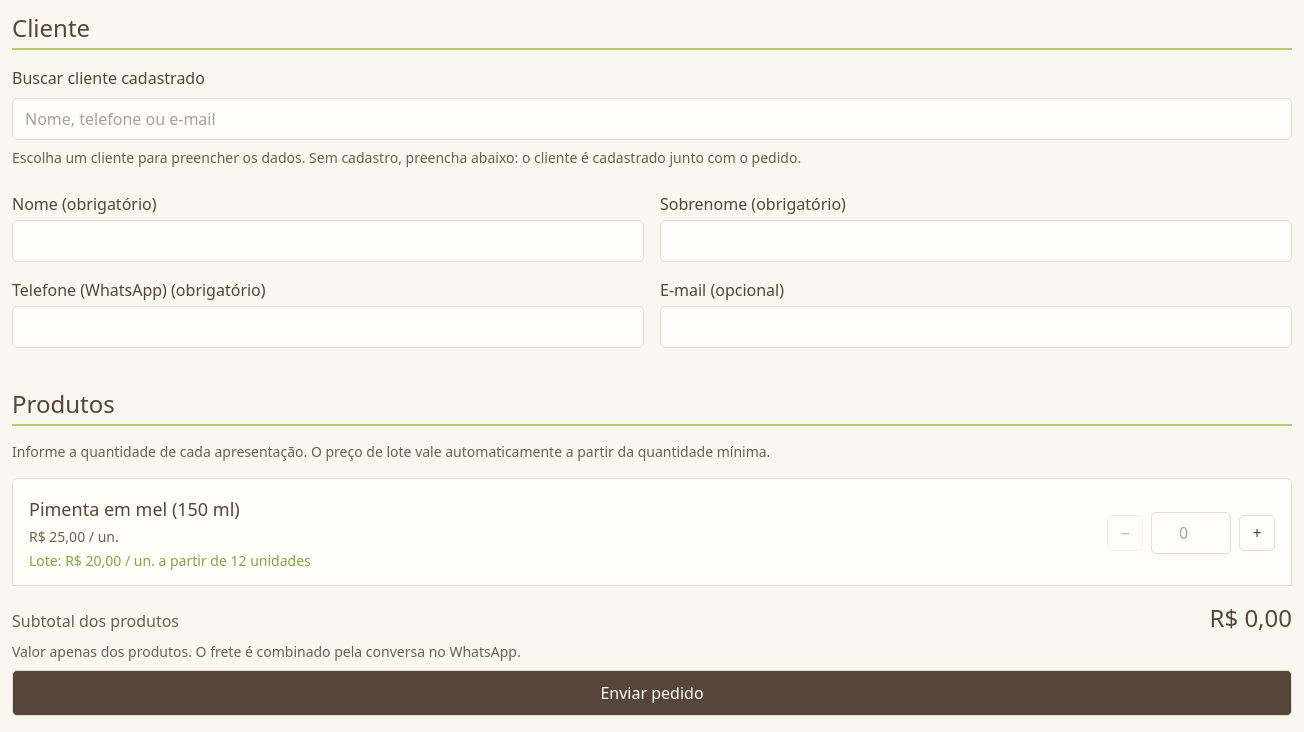
Test: <PedidoPimentaForm modo="funcionario"> › não pré-preenche com a conta logada; busca e escolhe o cliente
This screenshot has width=1304, height=732.
In the search field labelled "Buscar cliente cadastrado": [652, 119] box [12,98,1292,140], type "bia"
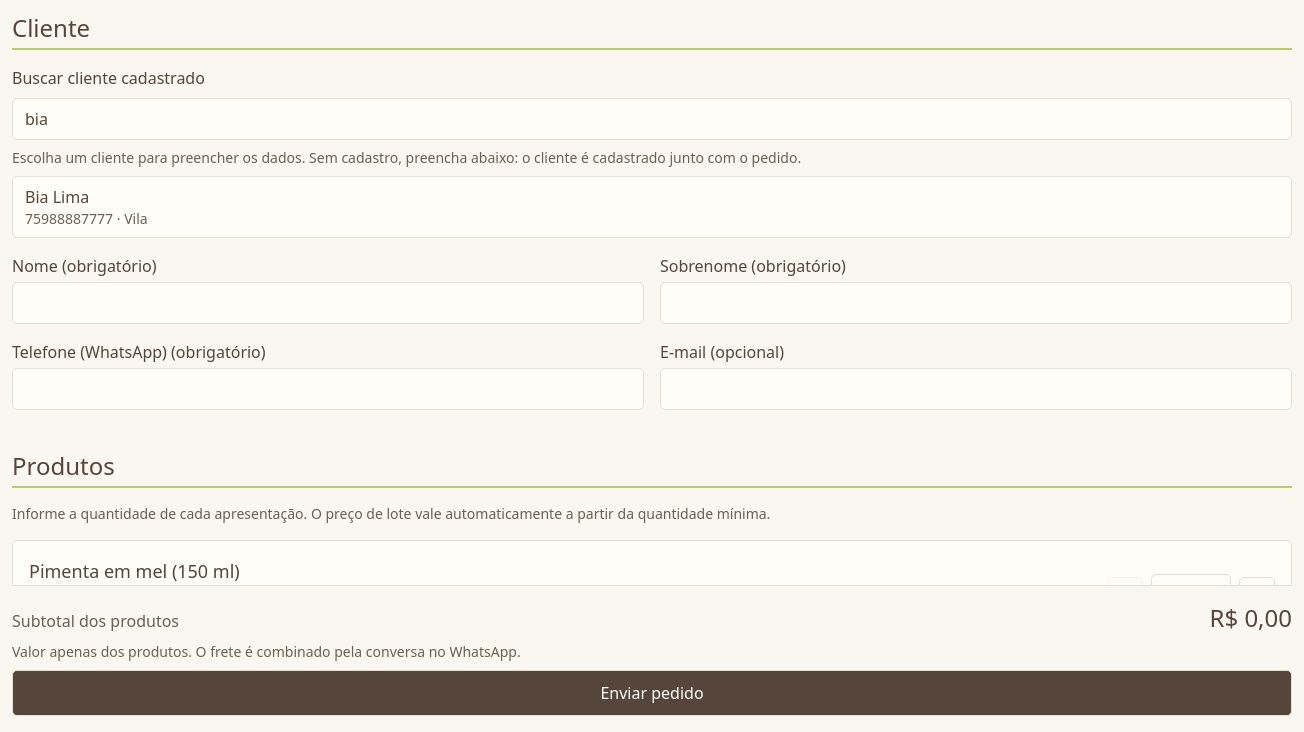
Click the button "Bia Lima 75988887777 · Vila": [71, 197] box [12,176,1292,238]
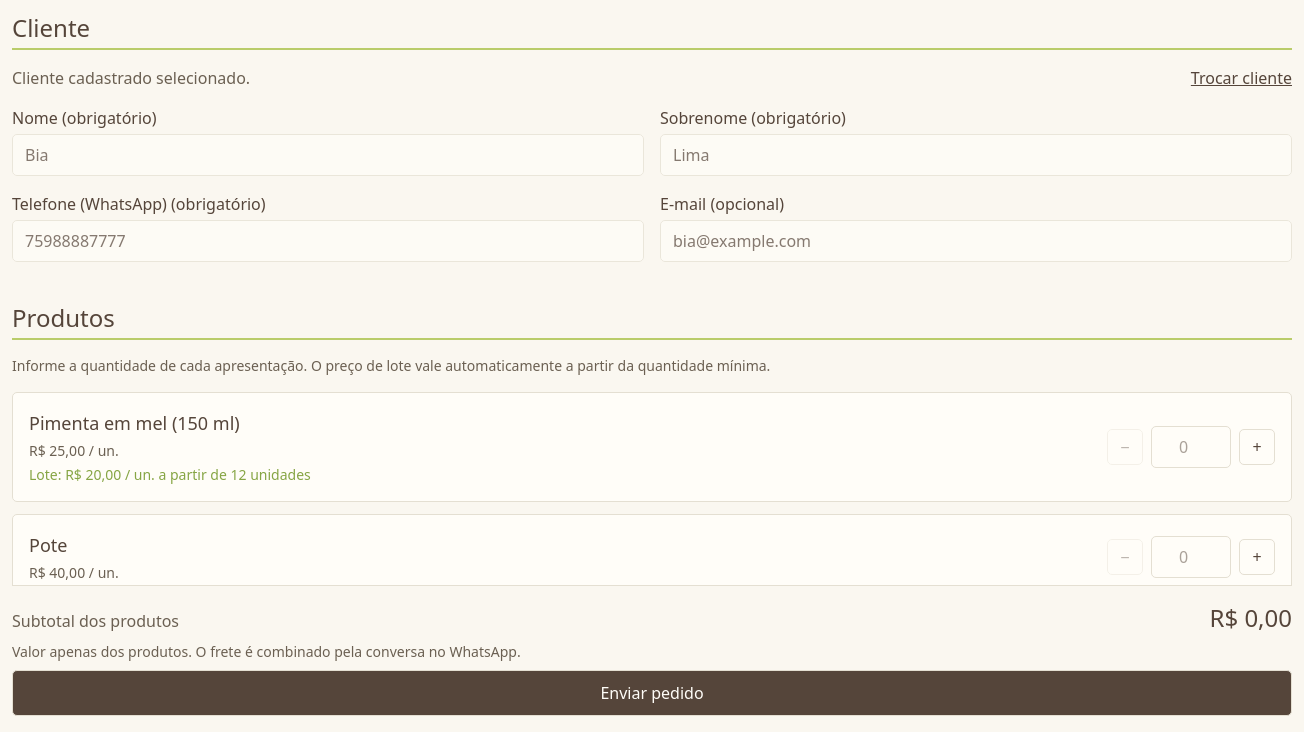
Expected: the field labelled "Nome (obrigatório)" holds "Bia", [12,134,644,176]
Click the button named "Aumentar quantidade de Pote": [1257, 557] box [1239,539,1275,575]
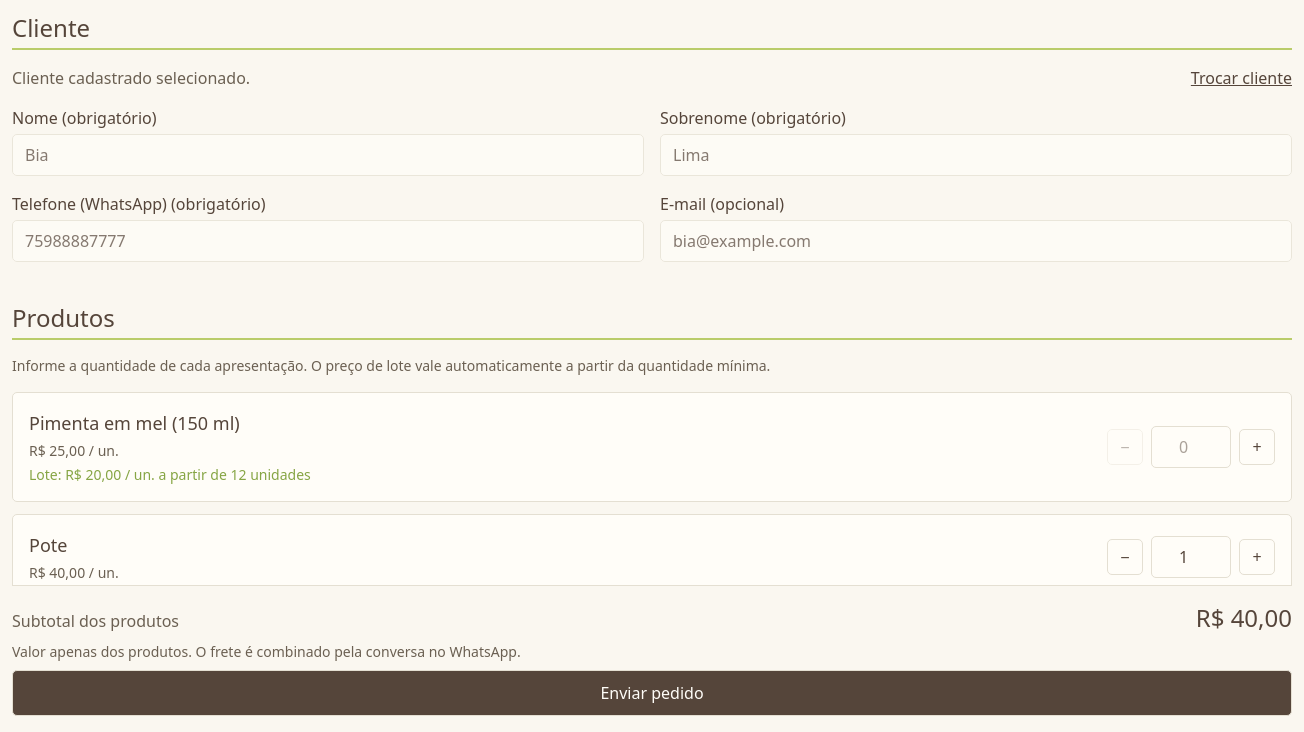
Click the button "Enviar pedido": [652, 693] box [12,670,1292,716]
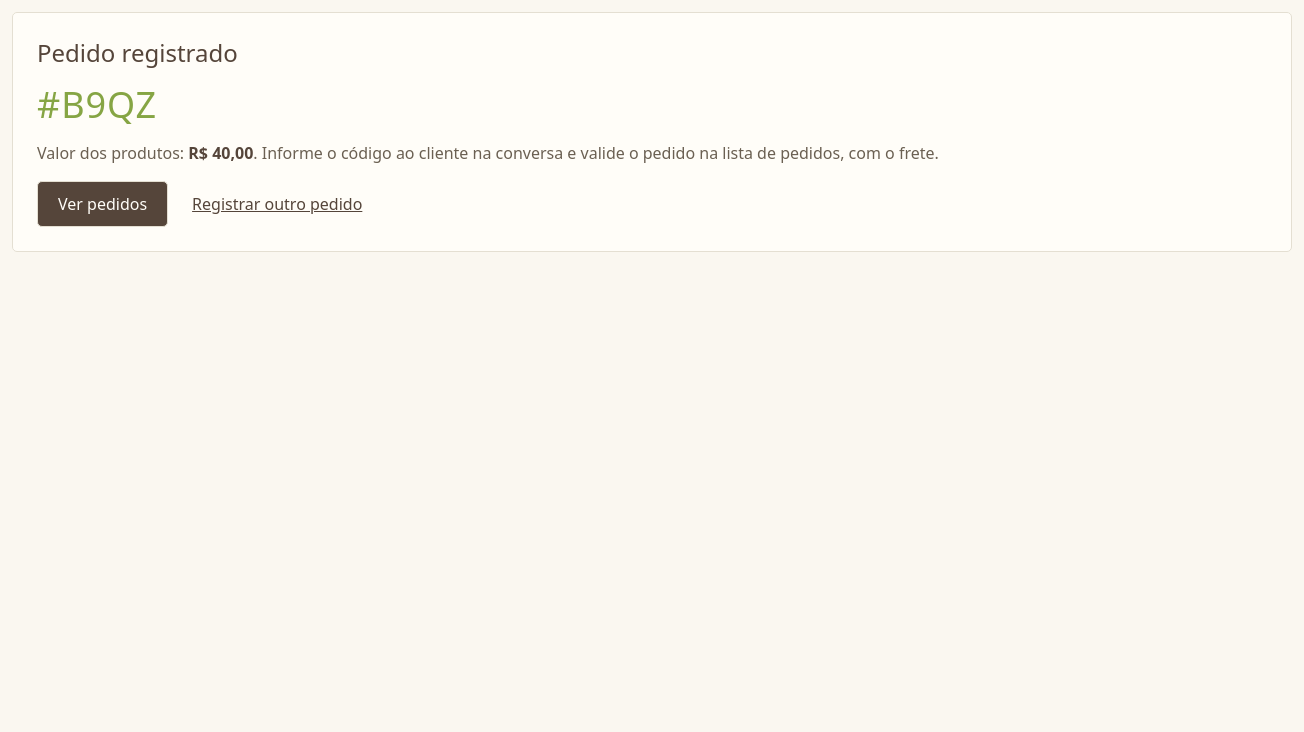
Expected: the text "#B9QZ" is shown, [37,80,157,129]
